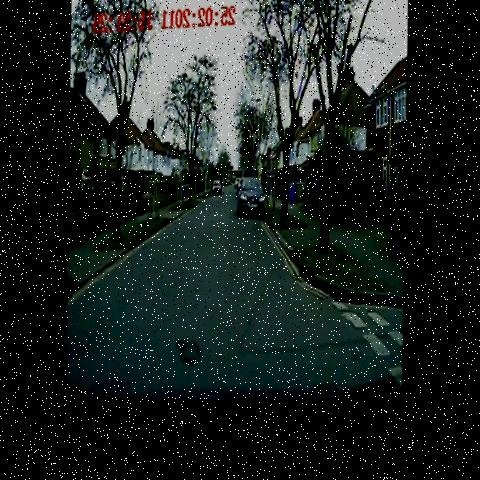pothole: (170, 336, 210, 379)
